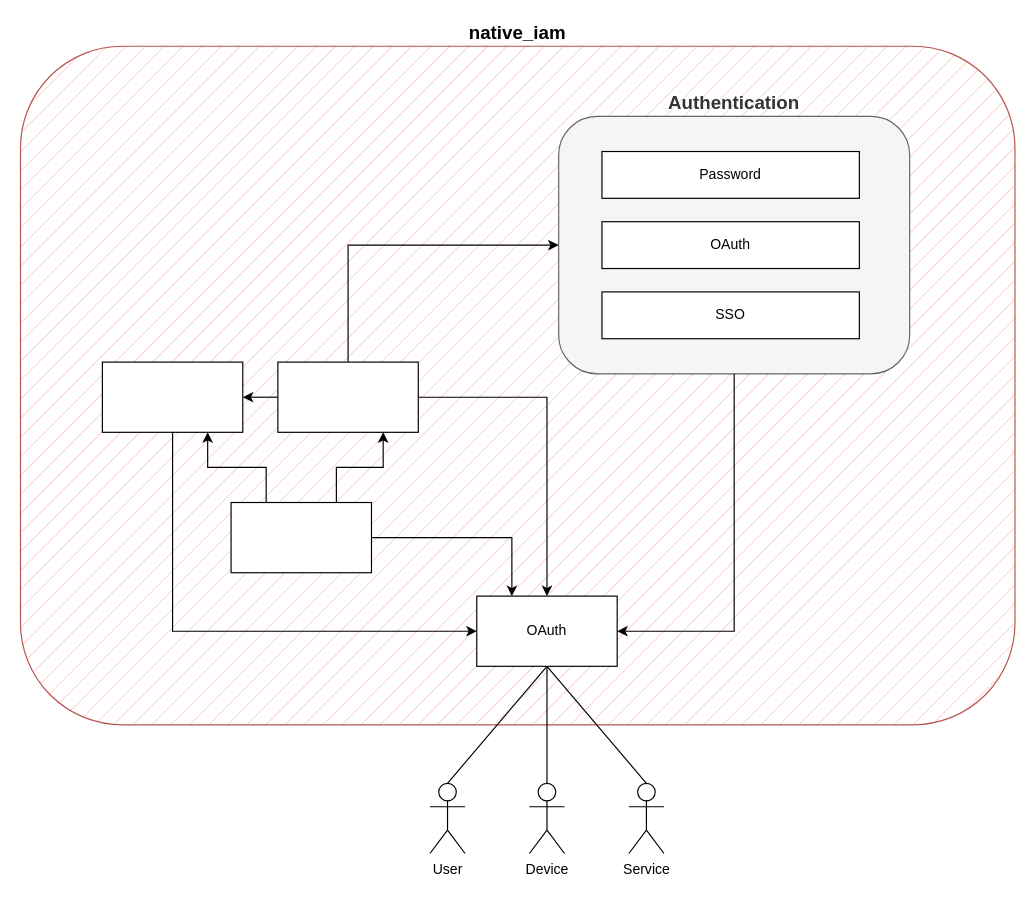
Image size: 1035x897. Some labels were removed from this diagram. The shapes that lost their labels are listed below. From the top down, each one's centre as x and y in pixels, then its label:
At (x=172, y=396): "Token".
At (x=347, y=396): "Identity".
At (x=300, y=537): "Policy".
